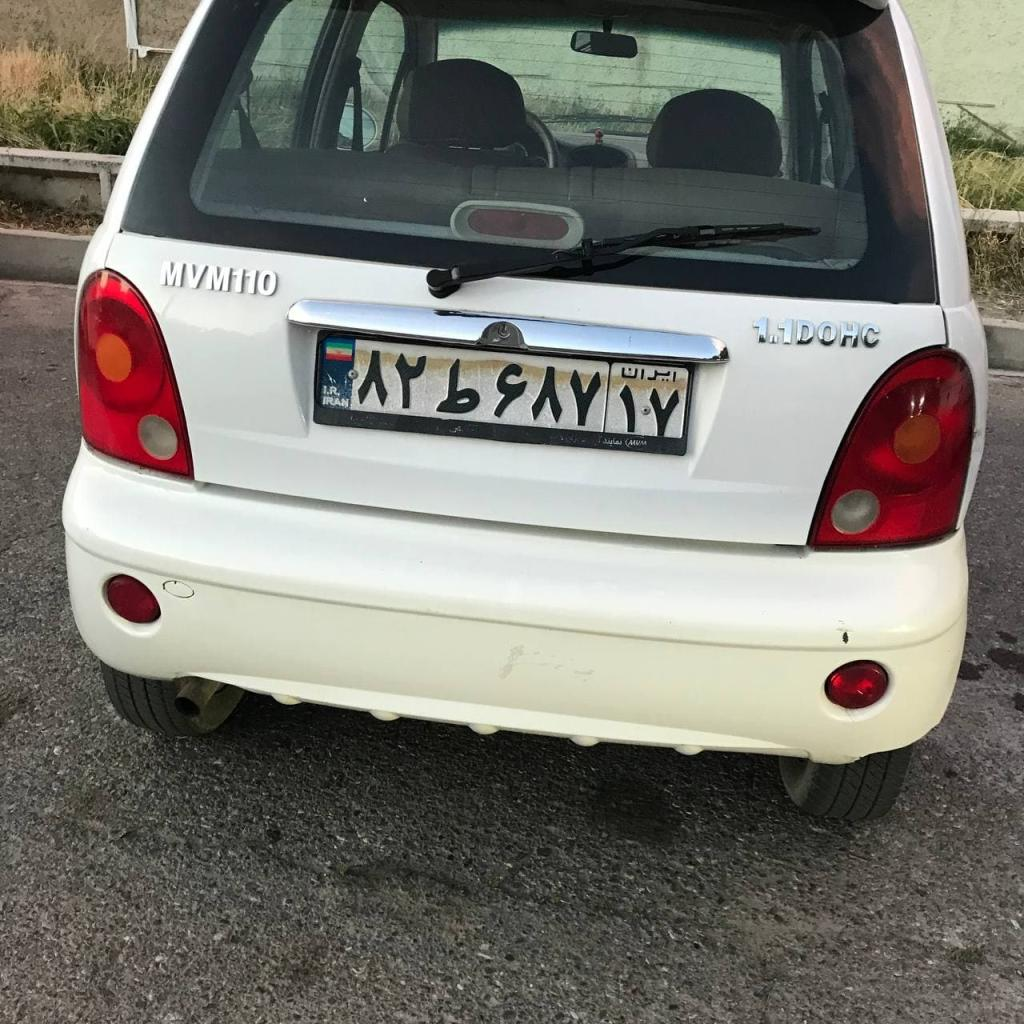Plates: (320, 335, 690, 439)
